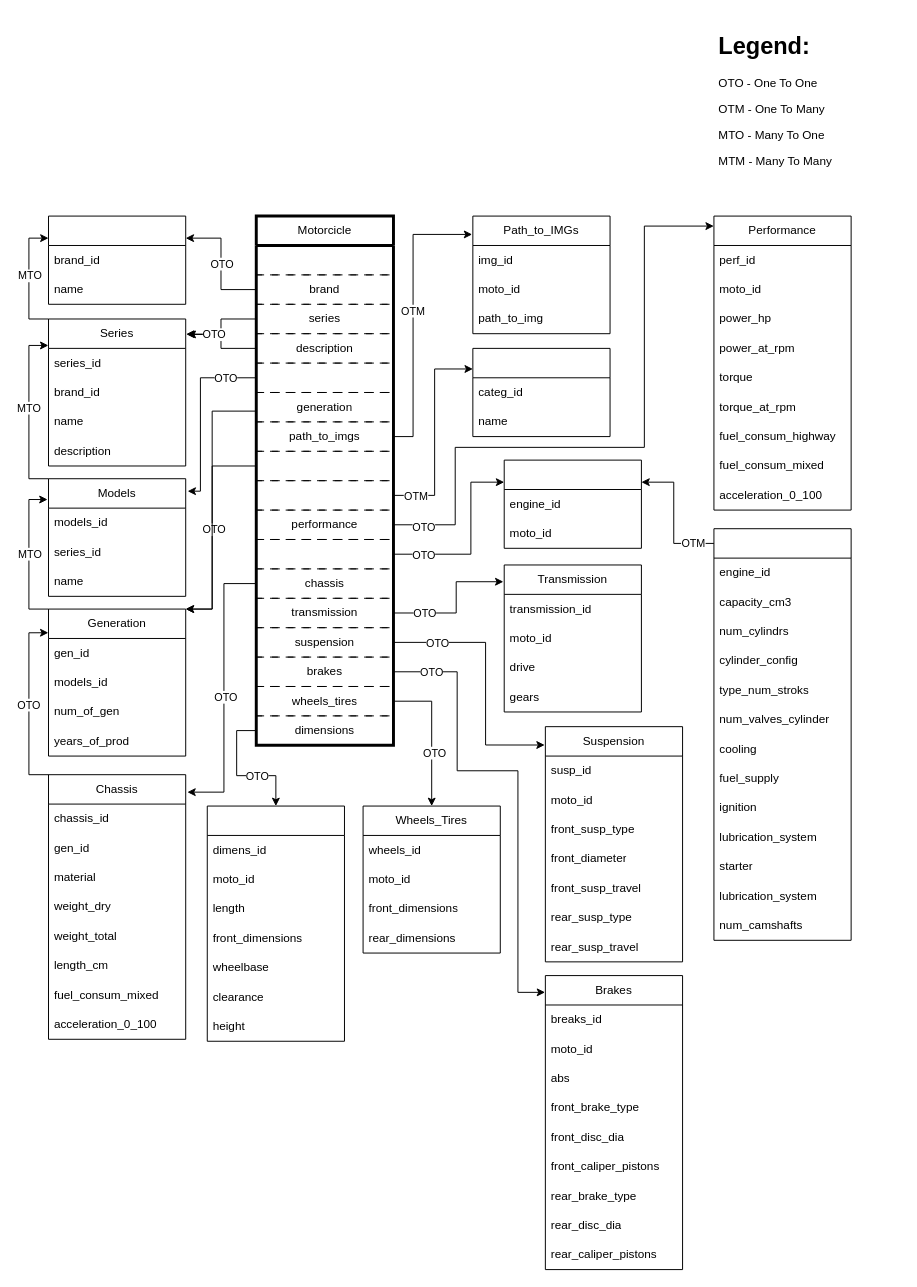
Image size: 917x1287. Some labels were removed from this diagram. Here are the shapes that lost their labels. From the top down, the box of each, then its label:
(48, 215, 186, 304): Brands
(255, 245, 393, 275): moto_id (UNIQ)
(255, 362, 393, 392): model
(472, 347, 610, 437): Categories
(255, 450, 393, 481): years of production
(255, 480, 393, 510): category
(503, 459, 641, 548): EngineMotos
(255, 539, 393, 569): engine
(713, 528, 851, 940): Engines
(206, 805, 344, 1041): Dimesions
